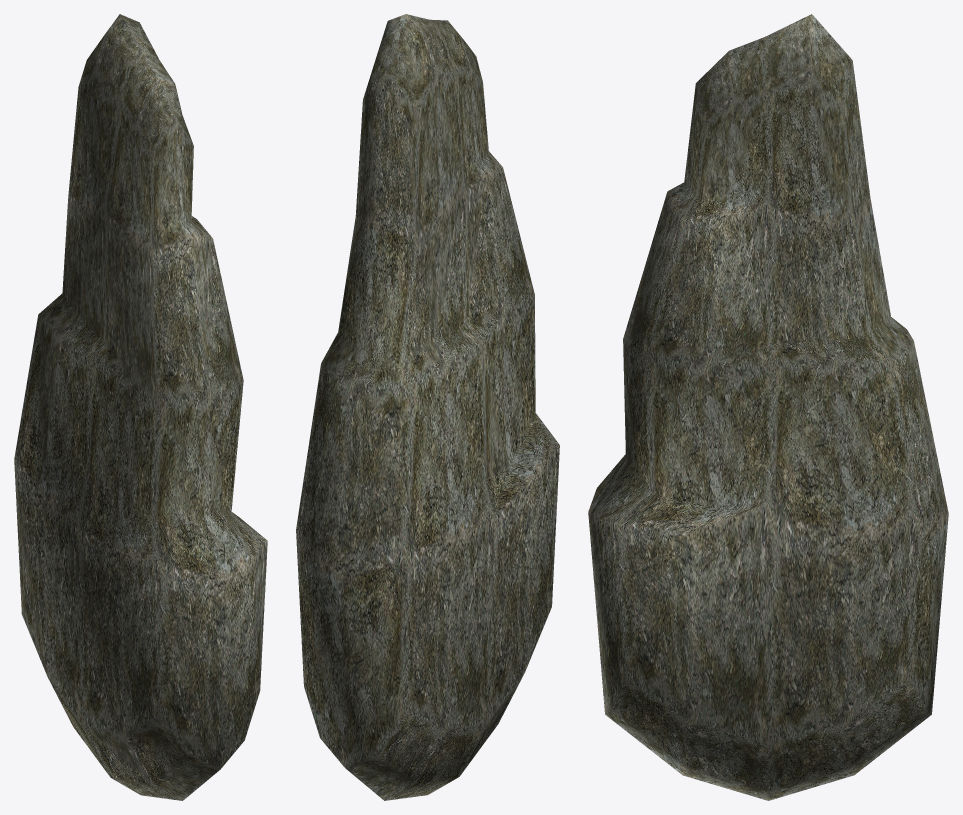
The model's file is rock_dant_a1_l0.fbx.
The picture shows the model from 3 angles, left to right: view 1: azimuth 30°, elevation 25°; view 2: azimuth 150°, elevation 25°; view 3: azimuth 270°, elevation 25°; orthographic projection. The views are drawn at different scales.
Parts seen in each view (by area): view 1: mesh_node; view 2: mesh_node; view 3: mesh_node.
Part boxes in pixels (x1,y1,x2,y2): mesh_node: (14,14,267,800); mesh_node: (296,14,559,800); mesh_node: (588,14,948,800).
Size of the model in its own units: 0.984 by 5.66 by 2.35.
Materials: 1 (1 with a texture image).
